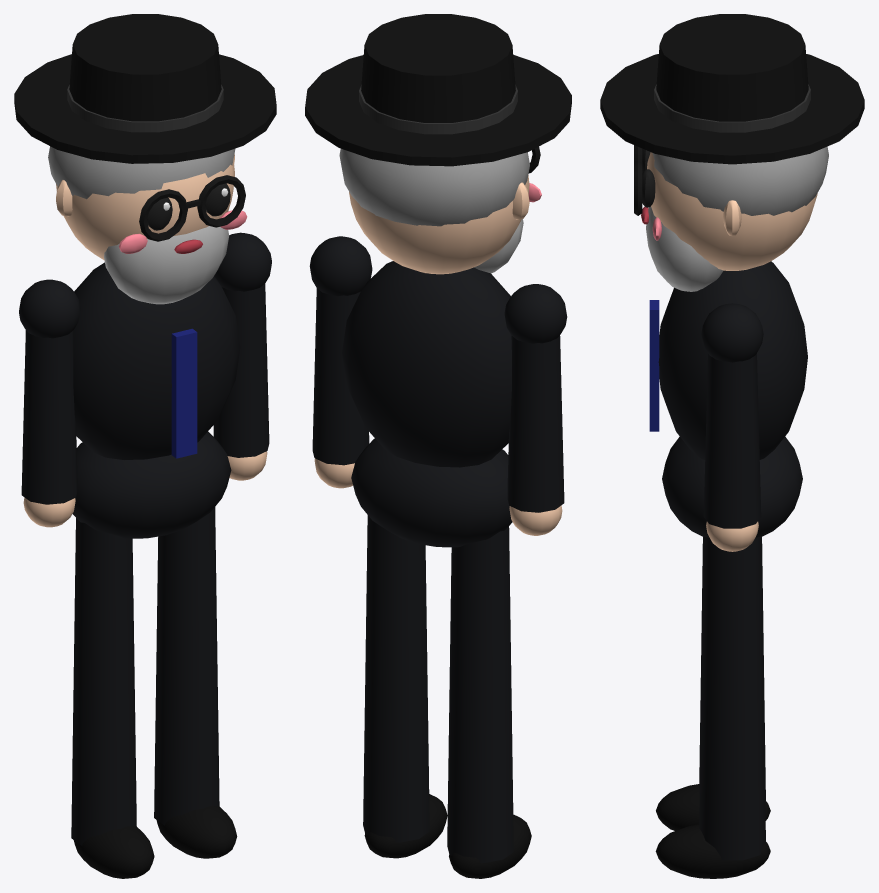
File: community_menahel.glb
3 renders of one model, left to right at view 1: azimuth 30°, elevation 25°; view 2: azimuth 150°, elevation 25°; view 3: azimuth 270°, elevation 25°, orthographic.
Parts seen in each view (by area): view 1: Body.004, Leg_R.004, Leg_L.004, Arm_R.004, Arm_L.004; view 2: Body.004, Leg_R.004, Leg_L.004, Arm_R.004, Arm_L.004; view 3: Body.004, Leg_L.004, Arm_L.004, Leg_R.004.
Boxes of the visible parts, x1,y1,x2,y2 form: Body.004: [14, 14, 276, 538]; Leg_R.004: [71, 518, 154, 878]; Leg_L.004: [154, 507, 237, 858]; Arm_R.004: [19, 279, 80, 527]; Arm_L.004: [213, 232, 271, 480]; Body.004: [305, 14, 571, 547]; Leg_R.004: [447, 526, 531, 878]; Leg_L.004: [363, 515, 447, 858]; Arm_R.004: [504, 284, 567, 535]; Arm_L.004: [309, 236, 372, 488]; Body.004: [600, 14, 864, 537]; Leg_L.004: [655, 536, 770, 878]; Arm_L.004: [701, 303, 763, 551]; Leg_R.004: [656, 537, 770, 830].
Bounding box in the file's own units: 0.592 × 1.86 × 0.551.
